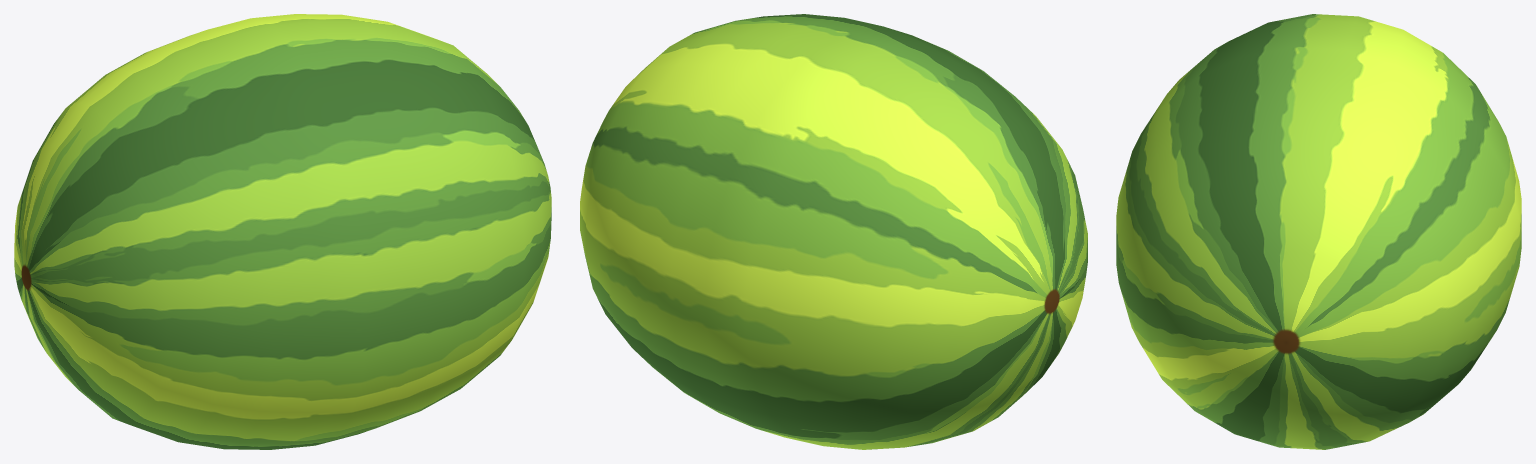
File: watermelon.glb
3 renders of one model, left to right at view 1: azimuth 30°, elevation 25°; view 2: azimuth 150°, elevation 25°; view 3: azimuth 270°, elevation 25°, orthographic. The views are drawn at different scales.
Parts seen in each view (by area): view 1: Watermelon_Full; view 2: Watermelon_Full; view 3: Watermelon_Full.
Part boxes in pixels (x1,y1,x2,y2): Watermelon_Full: (14, 14, 551, 449); Watermelon_Full: (580, 14, 1087, 449); Watermelon_Full: (1116, 14, 1521, 449).
Bounding box in the file's own units: 1.27 × 0.9805 × 0.9838.
1 material, 1 textured.
